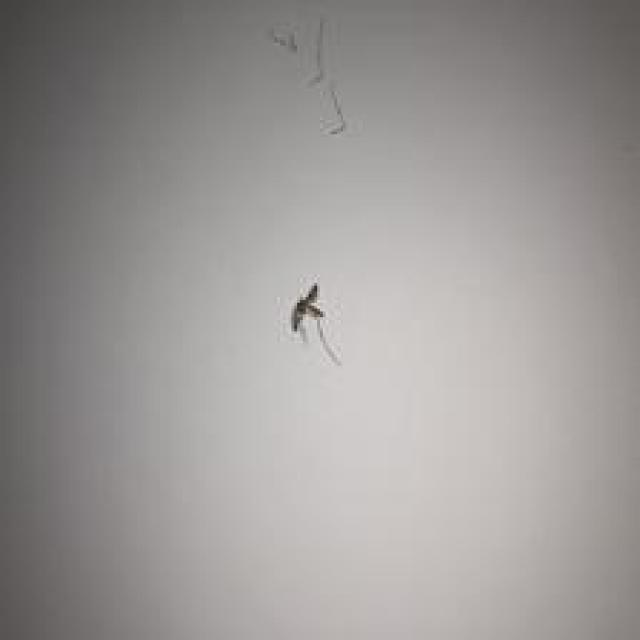Culex: (290, 283, 341, 366)
